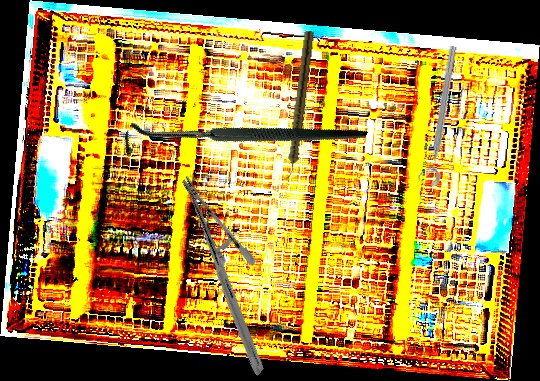Fixation Ring: (416, 44, 461, 187)
Handpiece: (283, 30, 315, 181)
Hook Surgical: (117, 31, 368, 251)
Needle Holder: (117, 174, 328, 377)
